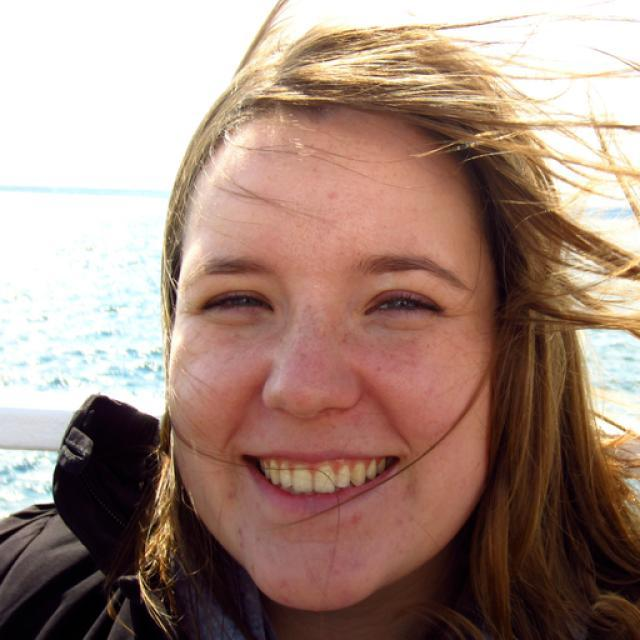happy: (168, 112, 500, 608)
